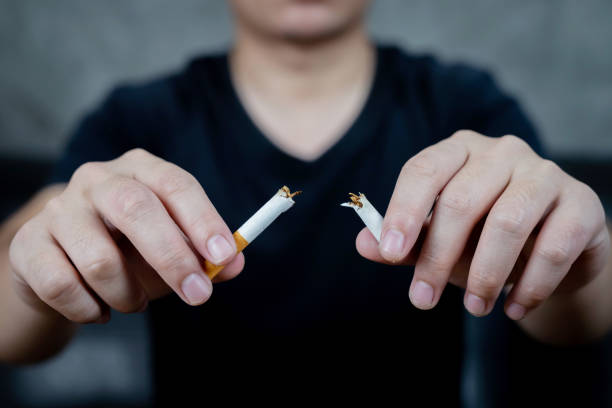cigarette: (198, 184, 296, 280), (338, 190, 385, 244)
